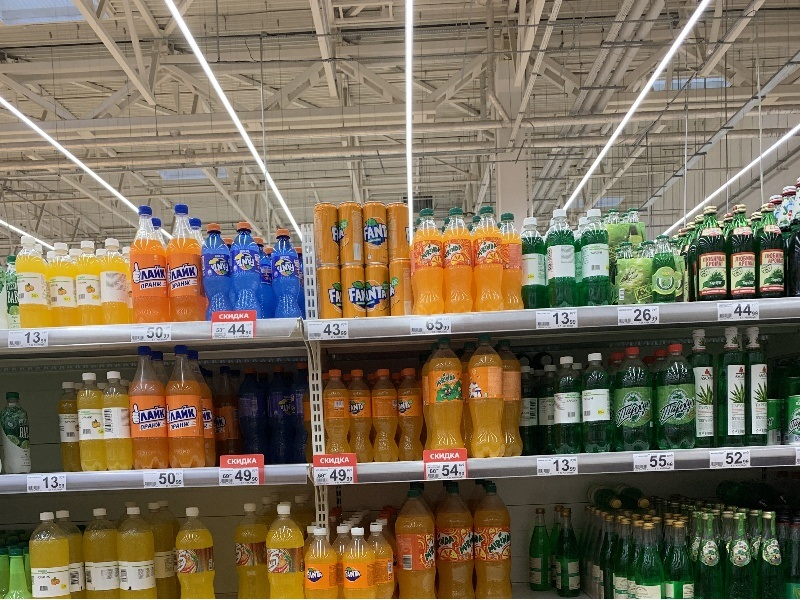lemonade: (163, 198, 211, 332), (161, 342, 209, 474), (430, 478, 481, 598), (463, 334, 510, 464), (123, 344, 170, 473), (421, 335, 470, 455), (610, 342, 659, 457), (130, 199, 173, 330), (388, 485, 438, 597), (653, 340, 701, 456), (476, 481, 518, 599), (71, 370, 116, 477), (407, 206, 449, 319), (438, 205, 477, 319), (97, 370, 138, 478), (575, 207, 616, 312), (470, 205, 507, 319), (228, 222, 269, 322), (545, 203, 581, 316), (550, 352, 588, 458), (96, 231, 135, 333), (579, 349, 614, 458), (14, 234, 50, 338), (366, 363, 401, 468), (69, 232, 105, 333), (270, 224, 305, 325), (196, 219, 230, 322), (395, 362, 427, 469), (344, 367, 377, 467), (45, 232, 75, 333), (323, 363, 353, 462)
